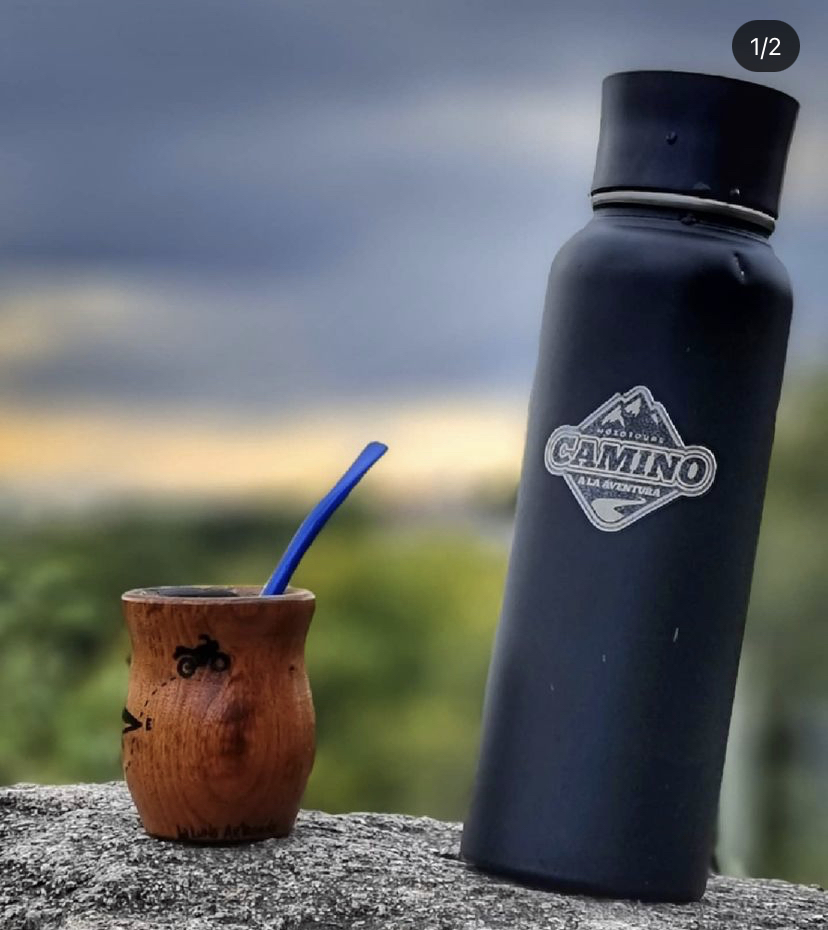madera: (116, 574, 325, 842)
mate: (114, 433, 394, 844)
